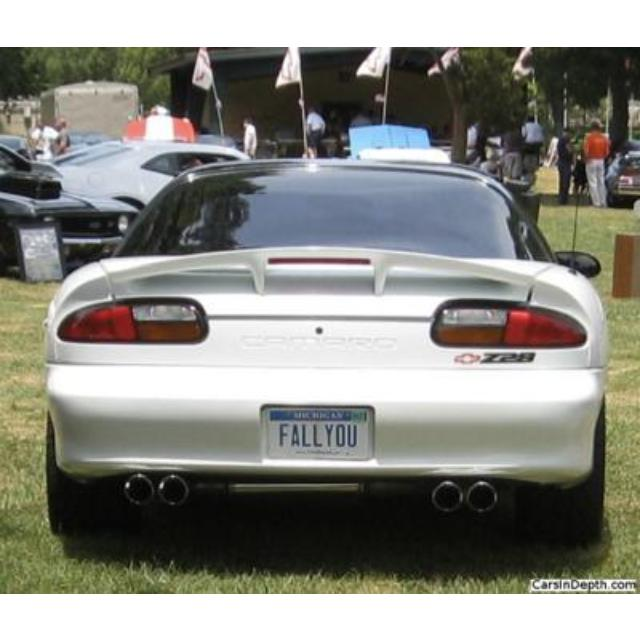car: (32, 152, 610, 536)
plate: (267, 411, 371, 461)
